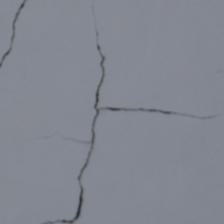Crack: (38, 0, 93, 93), (15, 165, 47, 224), (49, 53, 65, 165)
